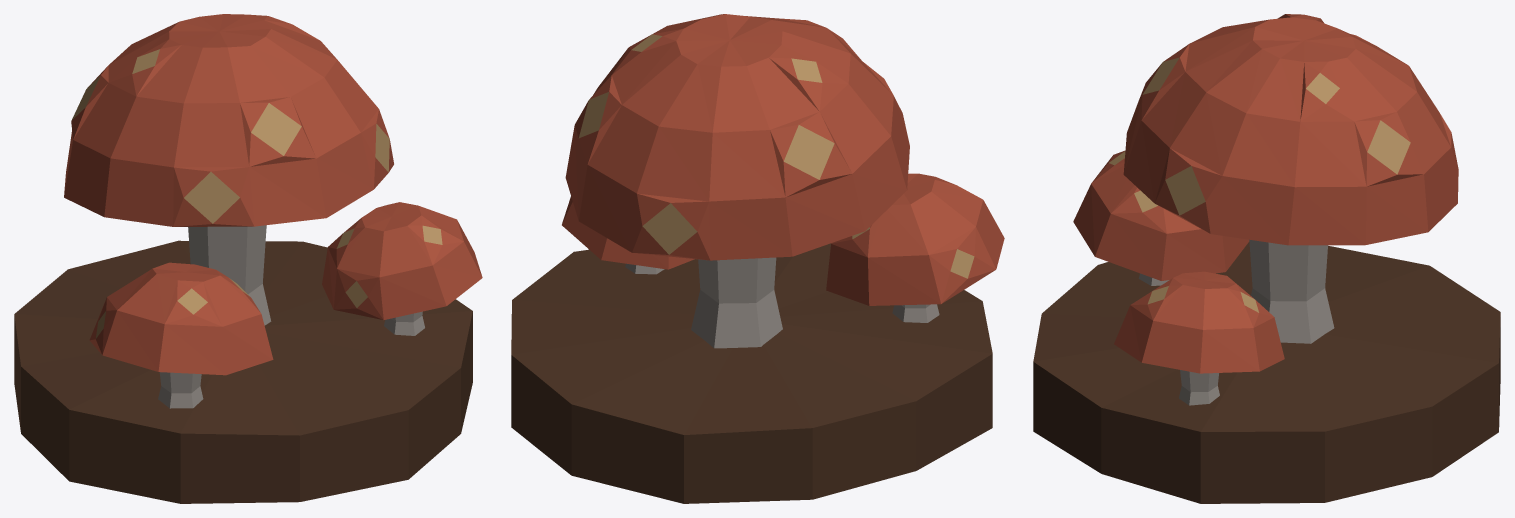
Rendered from mushroom-cluster-f2e3ba.glb.
The picture shows the model from 3 angles, left to right: view 1: azimuth 30°, elevation 25°; view 2: azimuth 150°, elevation 25°; view 3: azimuth 270°, elevation 25°; orthographic projection. The views are drawn at different scales.
Visible parts, largest first — view 1: soil-pad, yield-0-mesh, yield-1-mesh, yield-2-mesh; view 2: soil-pad, yield-0-mesh, yield-1-mesh, yield-2-mesh; view 3: soil-pad, yield-0-mesh, yield-2-mesh, yield-1-mesh.
Boxes of the visible parts, left/top/right/bottom form: soil-pad: left=14, top=240, right=472, bottom=503; yield-0-mesh: left=64, top=14, right=393, bottom=325; yield-1-mesh: left=89, top=262, right=273, bottom=408; yield-2-mesh: left=322, top=202, right=482, bottom=335; soil-pad: left=511, top=243, right=992, bottom=503; yield-0-mesh: left=565, top=14, right=909, bottom=348; yield-1-mesh: left=826, top=173, right=1004, bottom=322; yield-2-mesh: left=562, top=196, right=694, bottom=274; soil-pad: left=1033, top=242, right=1500, bottom=503; yield-0-mesh: left=1123, top=14, right=1458, bottom=343; yield-2-mesh: left=1114, top=271, right=1284, bottom=405; yield-1-mesh: left=1073, top=150, right=1249, bottom=285.
Size of the model in its own units: 0.265 by 0.2303 by 0.2635.
